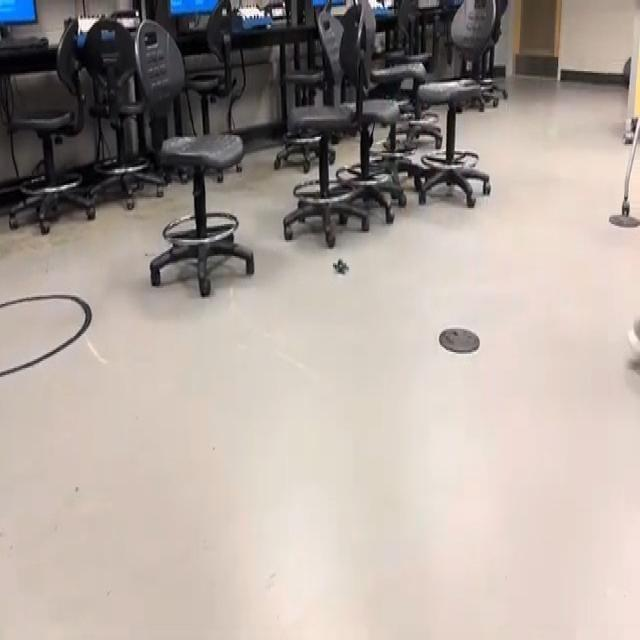drone: (326, 244, 356, 286)
